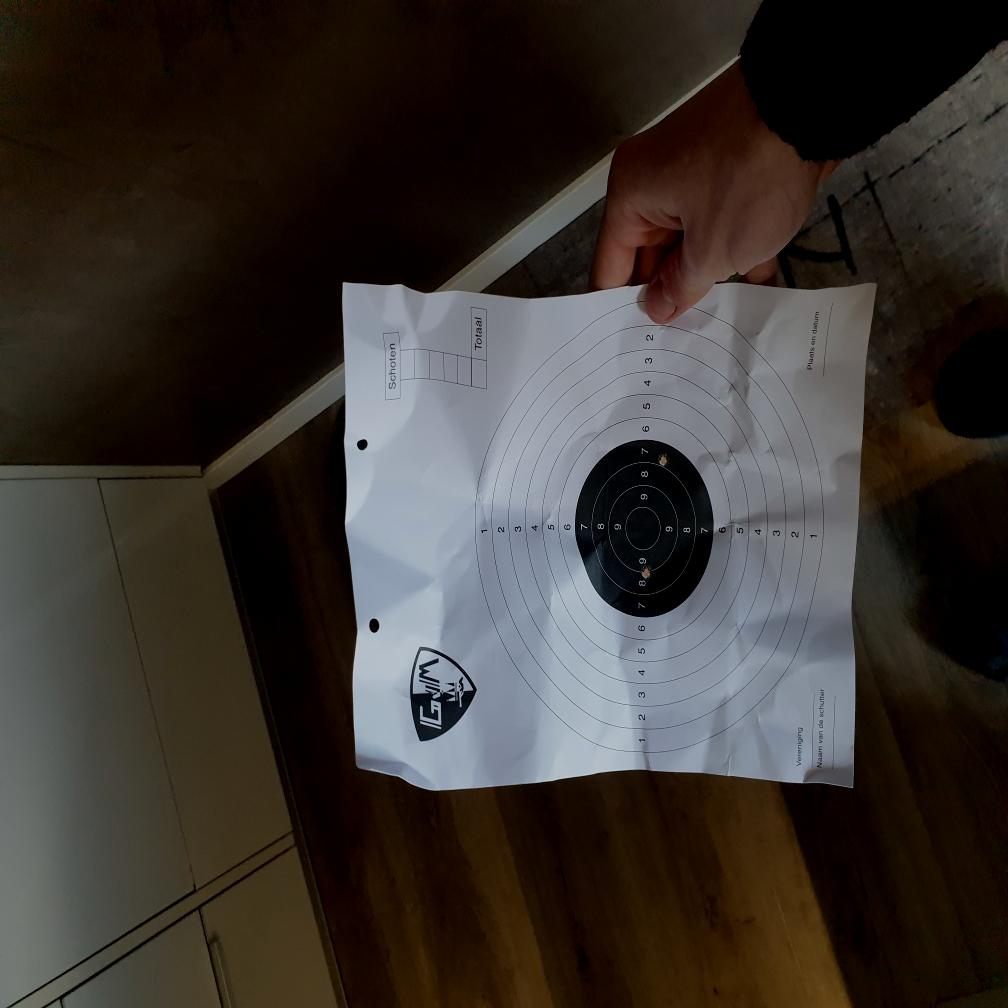7: (658, 453, 669, 467)
9: (641, 565, 652, 581)
Target: (474, 308, 825, 754)
black_contour: (574, 440, 714, 618)
